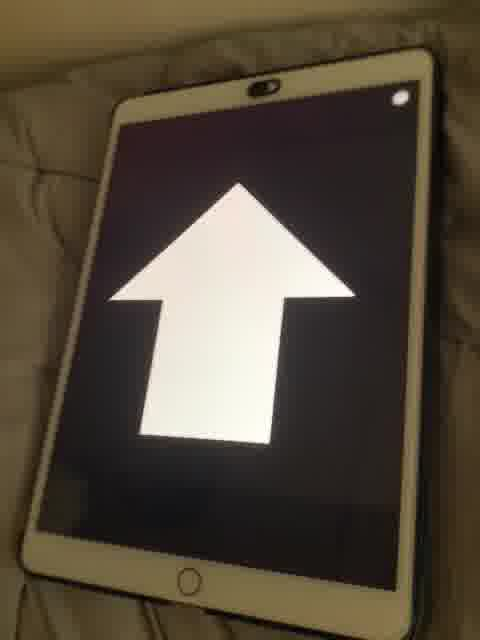up: (106, 170, 357, 449)
